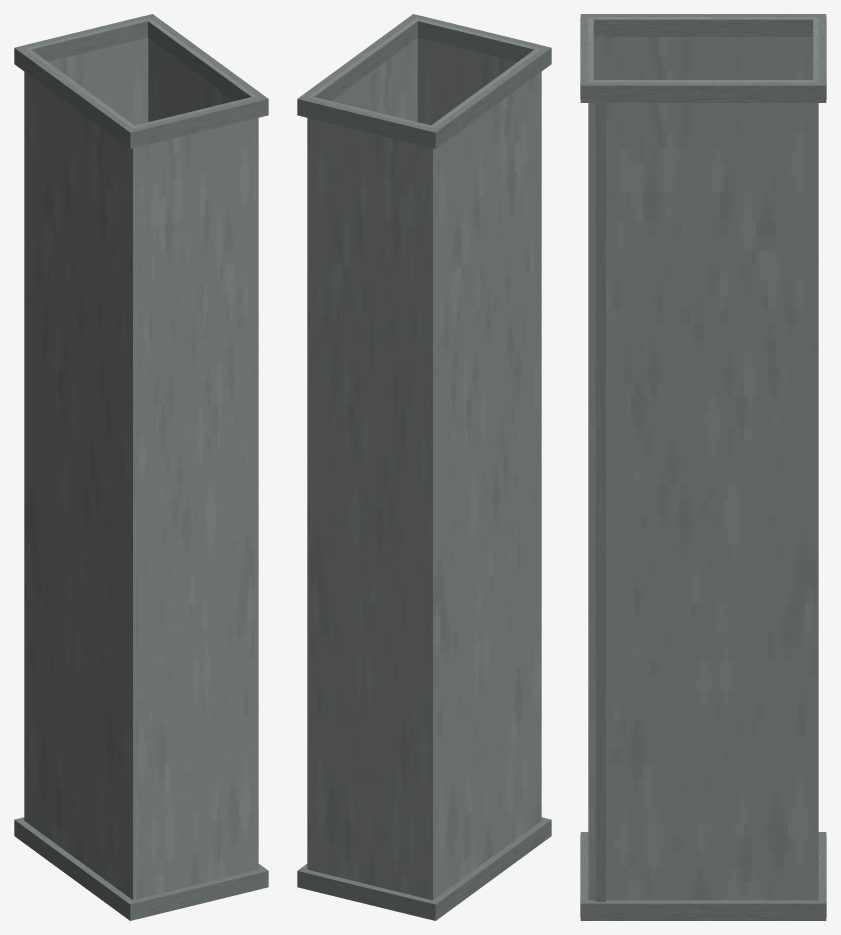
Rendered from hvac_duct_vertical.glb.
The picture shows the model from 3 angles, left to right: view 1: azimuth 30°, elevation 25°; view 2: azimuth 150°, elevation 25°; view 3: azimuth 270°, elevation 25°; orthographic projection. The views are drawn at different scales.
Visible parts, largest first — view 1: hvac_duct_vertical; view 2: hvac_duct_vertical; view 3: hvac_duct_vertical.
Boxes of the visible parts, x1=… form: hvac_duct_vertical: x1=14, y1=14, x2=268, y2=920; hvac_duct_vertical: x1=297, y1=14, x2=551, y2=920; hvac_duct_vertical: x1=580, y1=14, x2=826, y2=920.
Bounding box in the file's own units: 0.441 × 2.4 × 0.641.
Materials: 2 (2 with a texture image).
